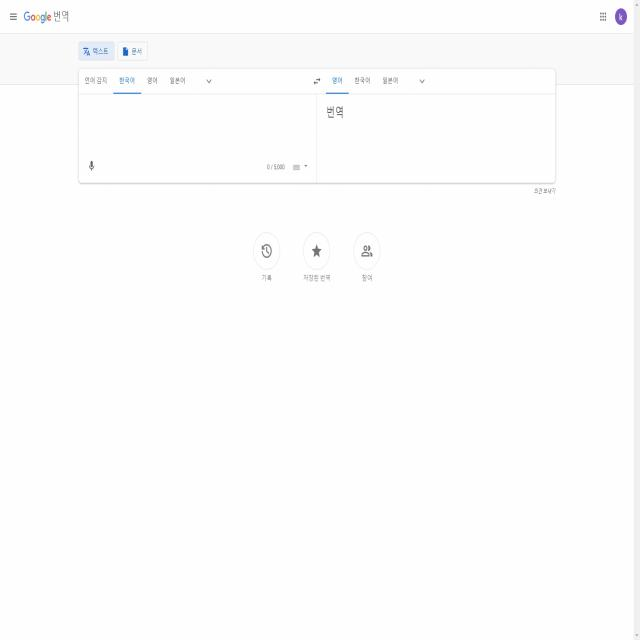menu-bar: (594, 5, 629, 28), (6, 4, 21, 28)
menu-panel: (111, 68, 215, 94), (324, 68, 430, 93)
